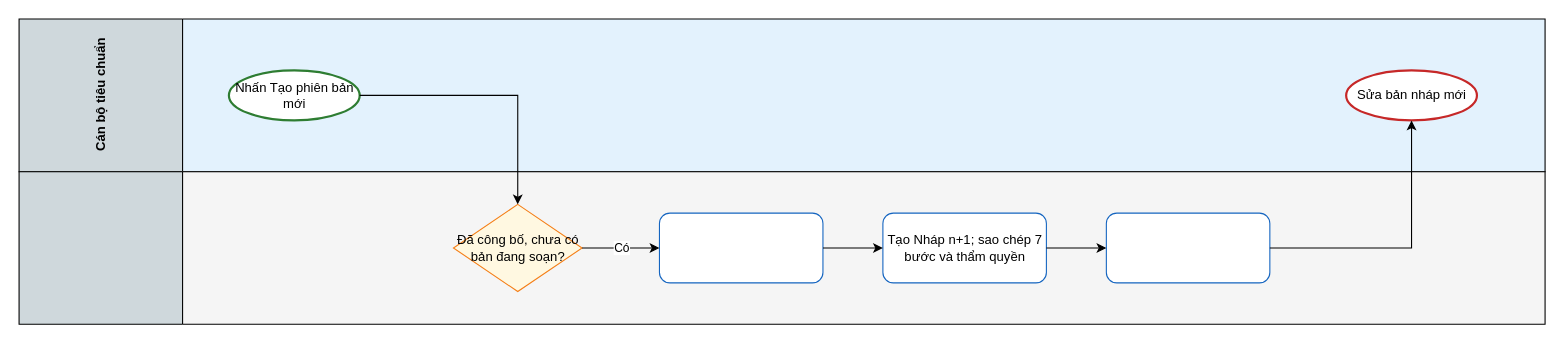
Some shapes in this 1564 by 343 pixel diagram are drawn without their labels. Each missing label, with the box of its shape:
Ghi nhật ký; mở màn hình sửa: (1105, 212, 1270, 283)
Hệ thống: (18, 171, 1545, 324)
Xác định bản gốc: (658, 212, 823, 283)
